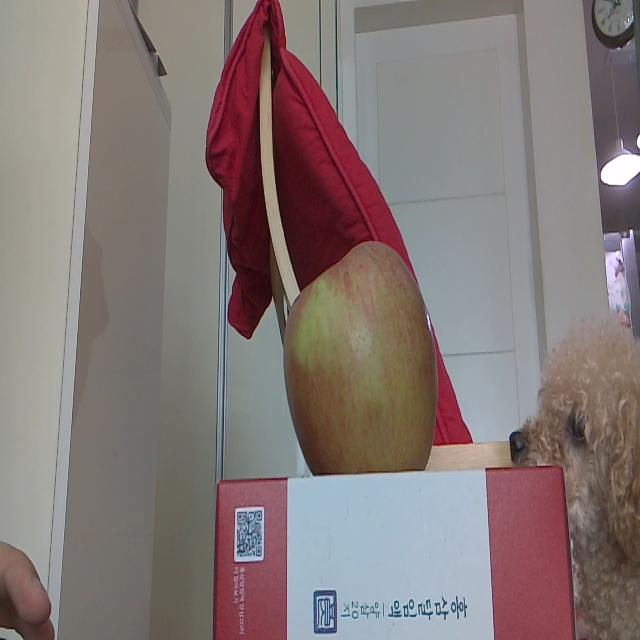apple: (284, 243, 437, 469)
